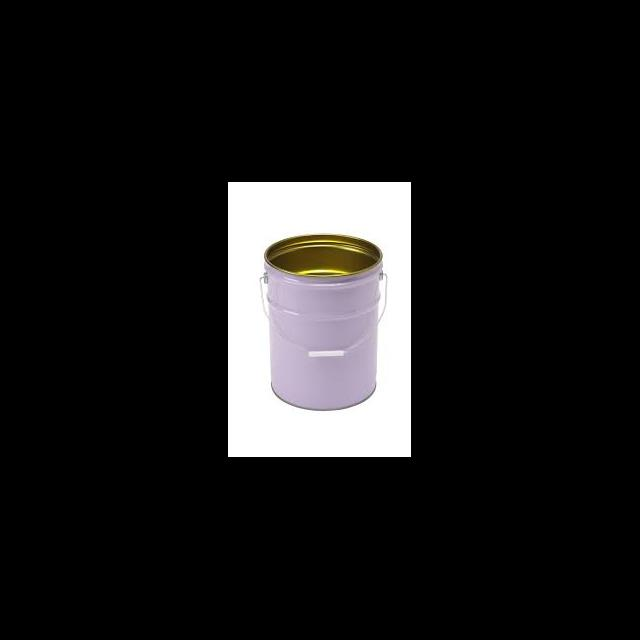metal: (260, 235, 386, 410)
